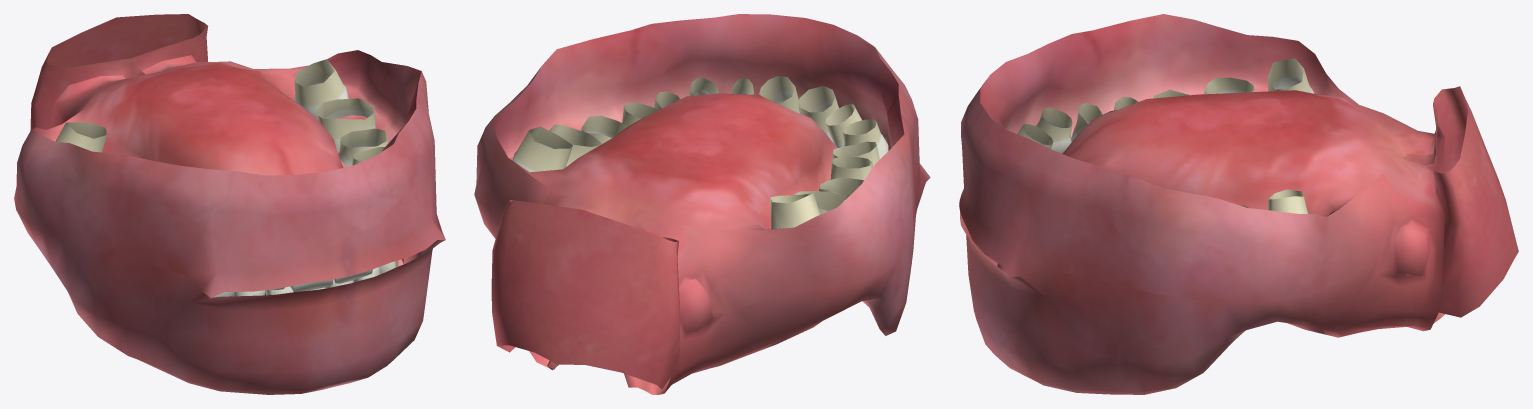
The model's file is 1.1 Mouth.glb.
3 views of the same model, side by side, from view 1: azimuth 30°, elevation 25°; view 2: azimuth 150°, elevation 25°; view 3: azimuth 270°, elevation 25° (orthographic). The views are drawn at different scales.
Parts seen in each view (by area): view 1: Mouth, Pharynx, Tooth_16, Tooth_15, Tooth_01, Tooth_14; view 2: Mouth, Pharynx, Tooth_16, Tooth_01, Tooth_08, Tooth_06, Tooth_09, Tooth_15, Tooth_04, Tooth_07, Tooth_14, Tooth_05 (+4 smaller); view 3: Mouth, Pharynx, Tooth_01, Tooth_06, Tooth_16, Tooth_02, Tooth_05.
Boxes of the visible parts, x1,y1,x2,y2 form: Mouth: [14, 50, 445, 394]; Pharynx: [30, 14, 208, 130]; Tooth_16: [294, 59, 348, 117]; Tooth_15: [316, 98, 375, 149]; Tooth_01: [55, 122, 107, 152]; Tooth_14: [338, 128, 388, 166]; Mouth: [474, 14, 930, 394]; Pharynx: [491, 200, 680, 389]; Tooth_16: [512, 126, 572, 172]; Tooth_01: [770, 193, 819, 229]; Tooth_08: [798, 86, 838, 142]; Tooth_06: [842, 119, 888, 158]; Tooth_09: [759, 76, 799, 113]; Tooth_15: [549, 124, 601, 166]; Tooth_04: [830, 156, 872, 179]; Tooth_07: [825, 104, 861, 147]; Tooth_14: [581, 115, 626, 144]; Tooth_05: [832, 141, 879, 166]; Mouth: [959, 14, 1445, 394]; Pharynx: [1433, 86, 1518, 317]; Tooth_01: [1267, 58, 1314, 93]; Tooth_06: [1036, 107, 1072, 153]; Tooth_16: [1267, 189, 1308, 213]; Tooth_02: [1204, 77, 1254, 94]; Tooth_05: [1071, 103, 1102, 141].
Bounding box in the file's own units: 0.0783 × 0.0441 × 0.0927.
2 materials, 2 textured.
